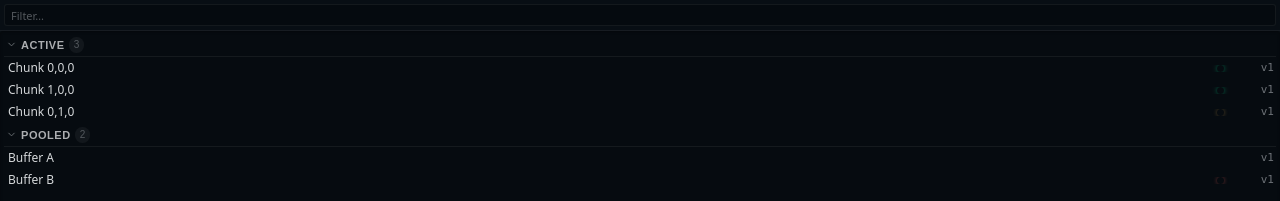
it: TreeList — filter › filters rows by label substring (case-insensitive)
Type "chunk" into the search field with placeholder "Filter…" at (640, 15), box [4,4,1276,26]
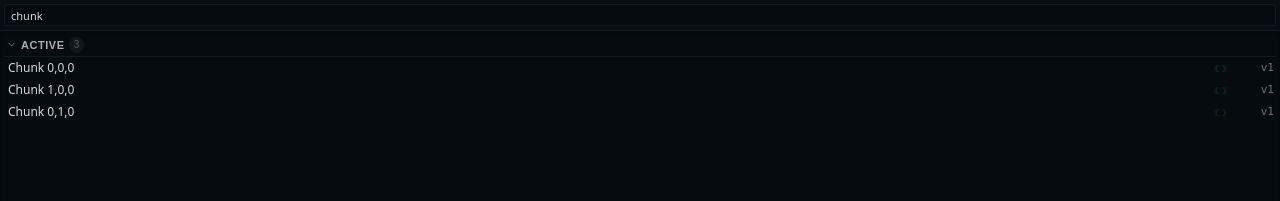
Expected: the text "Chunk 0,0,0" is shown, [8,59,74,76]
Expected: the text "Buffer A" is gone
Expected: the text "Buffer B" is gone
